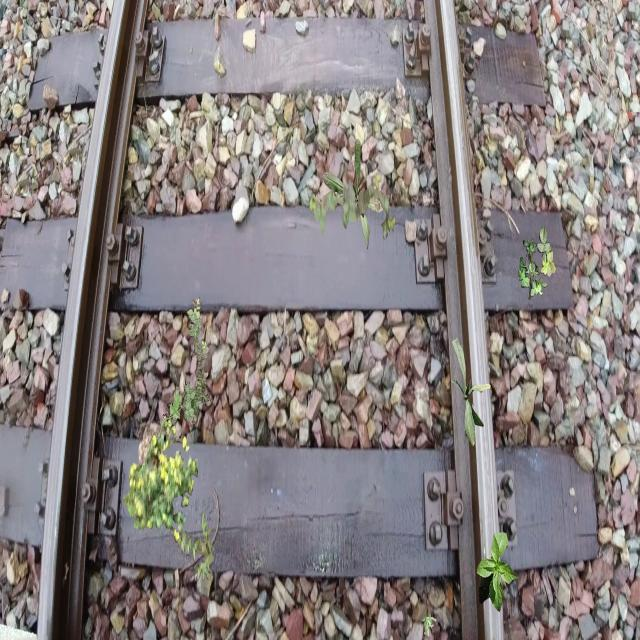Plant: (123, 401, 198, 541), (322, 138, 386, 250), (163, 297, 212, 435), (309, 172, 396, 240), (451, 338, 491, 448), (477, 532, 519, 612), (174, 510, 216, 582), (518, 226, 556, 300), (423, 616, 437, 636)
